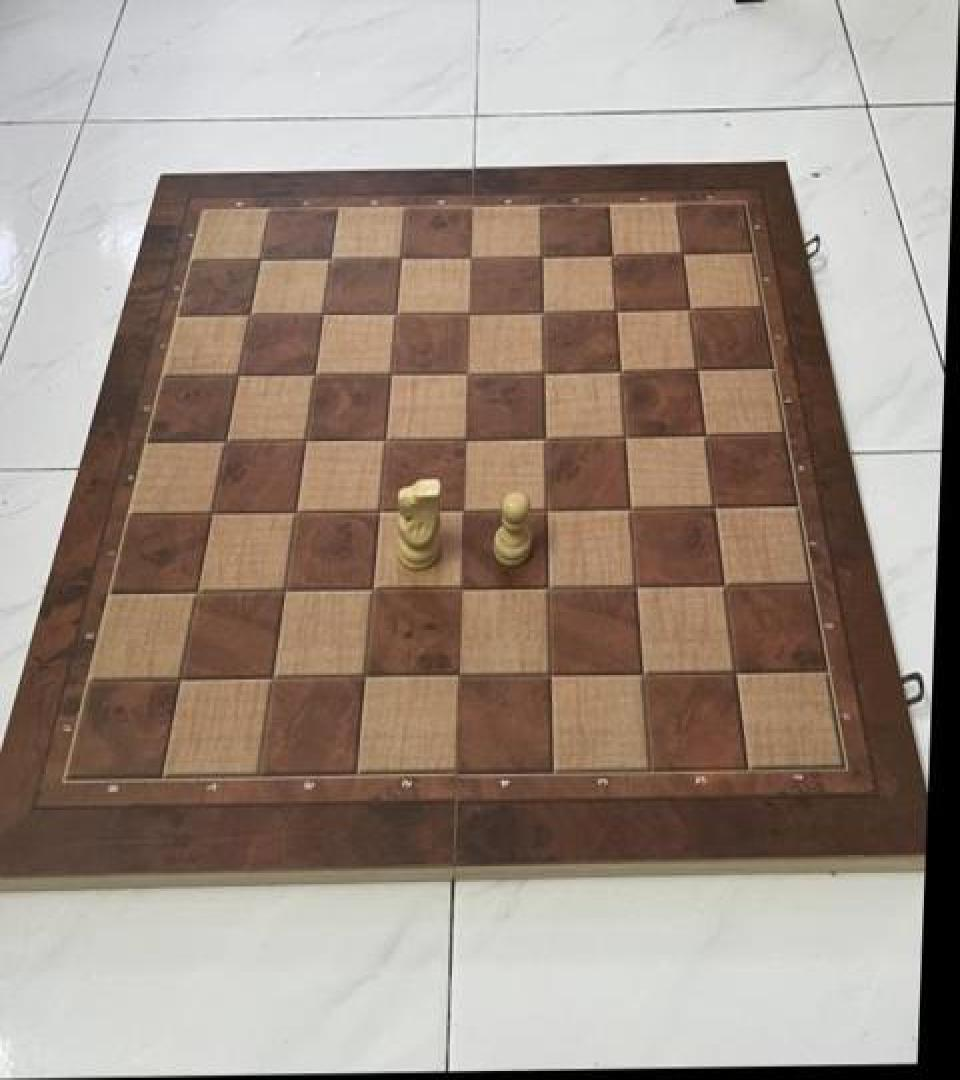xcorner: (267, 571, 299, 608), (163, 660, 195, 697), (625, 653, 657, 690), (718, 652, 750, 689), (243, 243, 275, 279), (312, 242, 344, 278), (382, 241, 414, 277), (452, 240, 484, 276), (523, 238, 555, 274), (593, 236, 625, 272), (663, 235, 695, 271), (232, 298, 264, 334), (305, 297, 337, 333), (378, 296, 410, 332), (451, 294, 483, 330), (524, 292, 556, 328), (597, 292, 629, 328), (670, 290, 702, 326), (221, 358, 253, 394), (297, 356, 329, 392), (373, 356, 405, 392), (449, 354, 481, 390), (525, 352, 557, 388), (602, 351, 634, 387), (678, 350, 710, 386), (208, 423, 240, 459), (288, 422, 320, 458), (367, 421, 399, 457), (447, 418, 479, 454), (527, 418, 559, 454), (607, 416, 639, 452), (687, 415, 719, 451), (194, 495, 226, 531), (278, 493, 310, 529), (361, 492, 393, 528), (445, 490, 477, 526), (528, 490, 560, 526), (612, 488, 644, 524), (696, 486, 728, 522), (179, 574, 211, 610), (354, 570, 386, 606), (442, 569, 474, 605), (530, 568, 562, 604), (618, 567, 650, 603), (707, 565, 739, 601), (255, 659, 287, 695), (347, 658, 379, 694), (440, 657, 472, 693), (532, 655, 564, 691)
